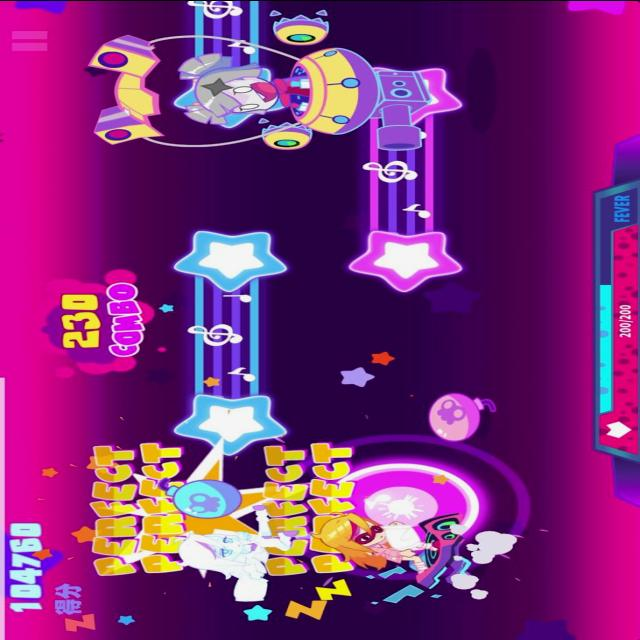hold: (342, 65, 468, 292), (168, 222, 282, 454), (169, 0, 285, 126)
qiangboss: (78, 7, 382, 152)
tang: (424, 389, 500, 442), (153, 478, 244, 521)
